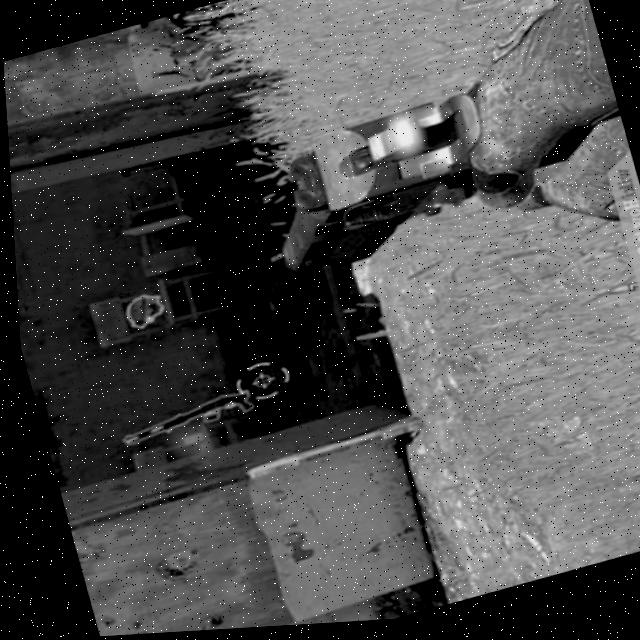firearm: (106, 390, 254, 451)
pistol: (233, 92, 506, 287)
